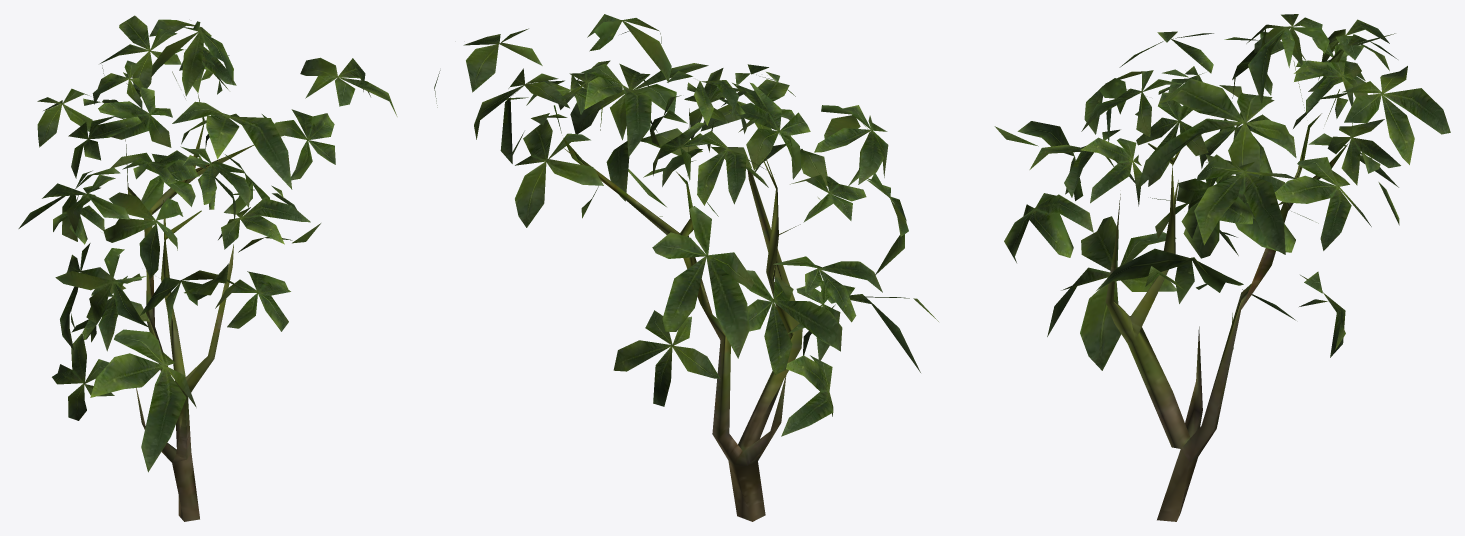
The model's file is plant_pachira_small.glb.
3 renders of one model, left to right at view 1: azimuth 30°, elevation 25°; view 2: azimuth 150°, elevation 25°; view 3: azimuth 270°, elevation 25°, orthographic. The views are drawn at different scales.
Visible parts, largest first — view 1: plant_pachira_small; view 2: plant_pachira_small; view 3: plant_pachira_small.
Part boxes in pixels (<box>): plant_pachira_small: <box>18,15,397,521</box>; plant_pachira_small: <box>434,14,938,521</box>; plant_pachira_small: <box>994,14,1450,521</box>.
Bounding box in the file's own units: 0.9708 × 1.15 × 0.9238.
1 material, 1 textured.
